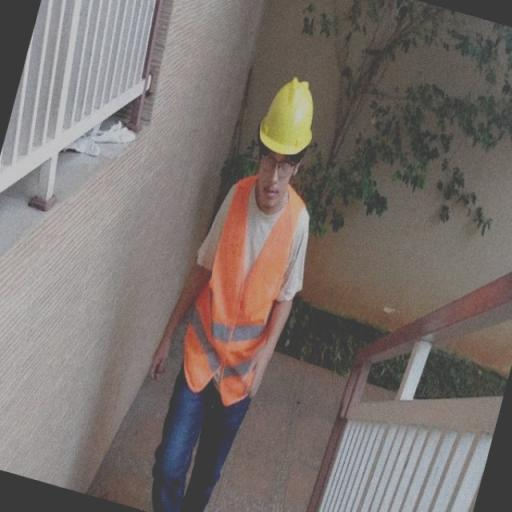Person: (128, 65, 350, 510), (163, 69, 332, 512)
helmet: (236, 76, 326, 156)
none: (233, 336, 275, 403), (138, 317, 180, 384)
vest: (174, 180, 315, 416)
